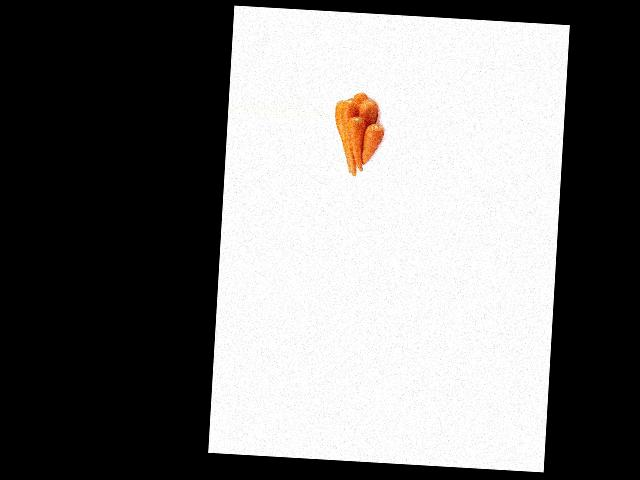carrot: (361, 123, 385, 168)
